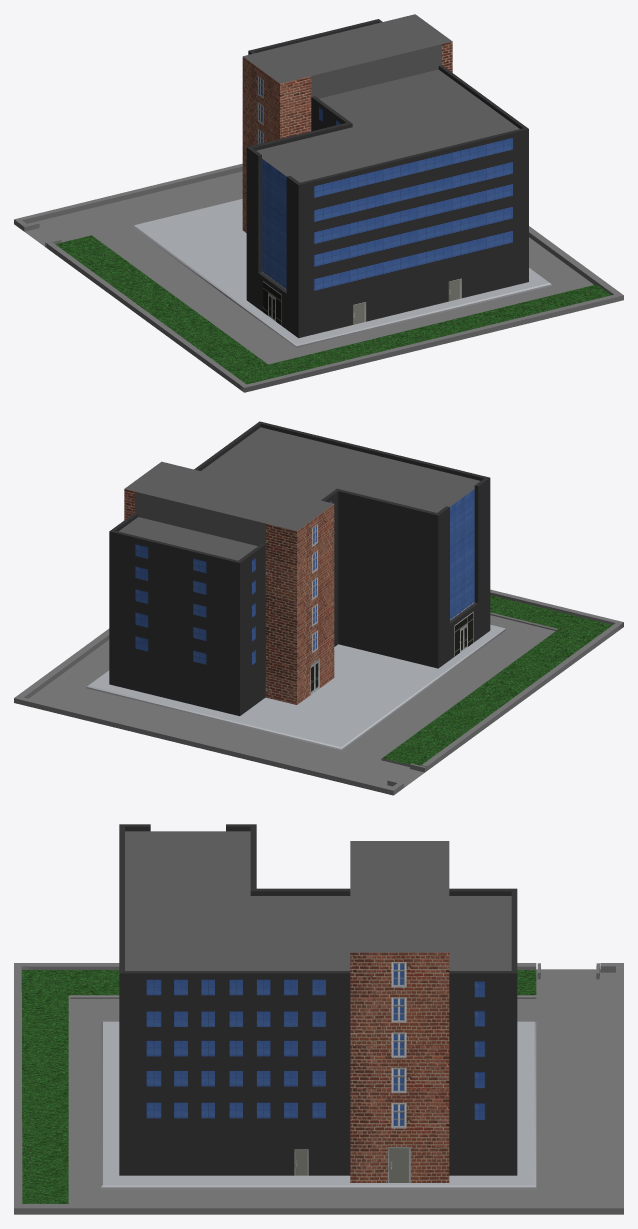
The model's file is officeBlock.glb.
3 views of the same model, one above another, from view 1: azimuth 30°, elevation 25°; view 2: azimuth 150°, elevation 25°; view 3: azimuth 270°, elevation 25° (orthographic). The views are drawn at different scales.
Visible parts, largest first — view 1: SiteOffice001, SiteOffice_Ground; view 2: SiteOffice001, SiteOffice_Ground; view 3: SiteOffice001, SiteOffice_Ground.
Part boxes in pixels (box(x1,y1,x2,y2)): SiteOffice001: box(242, 14, 528, 338); SiteOffice_Ground: box(14, 163, 623, 392); SiteOffice001: box(109, 421, 490, 716); SiteOffice_Ground: box(14, 589, 623, 795); SiteOffice001: box(119, 824, 517, 1182); SiteOffice_Ground: box(14, 963, 623, 1214).
Bounding box in the file's own units: 54.29 × 24.12 × 57.05.
2 materials, 2 textured.
